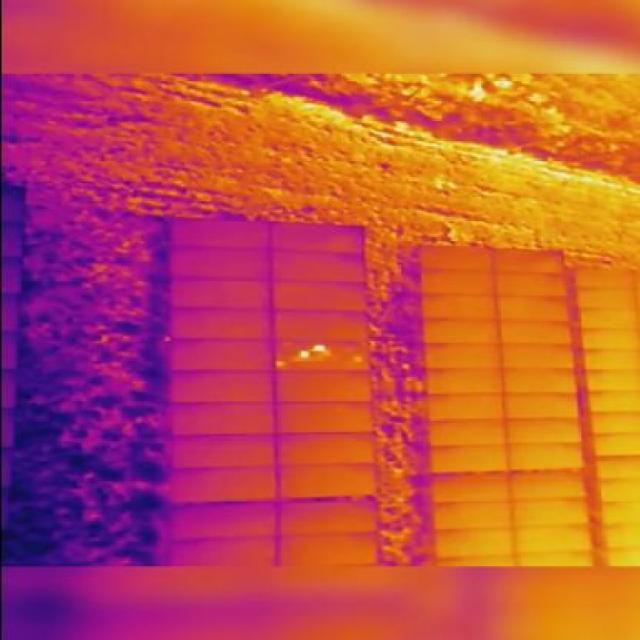hotspot: (352, 353, 363, 362), (275, 360, 287, 366), (298, 352, 308, 358), (316, 344, 324, 350)
